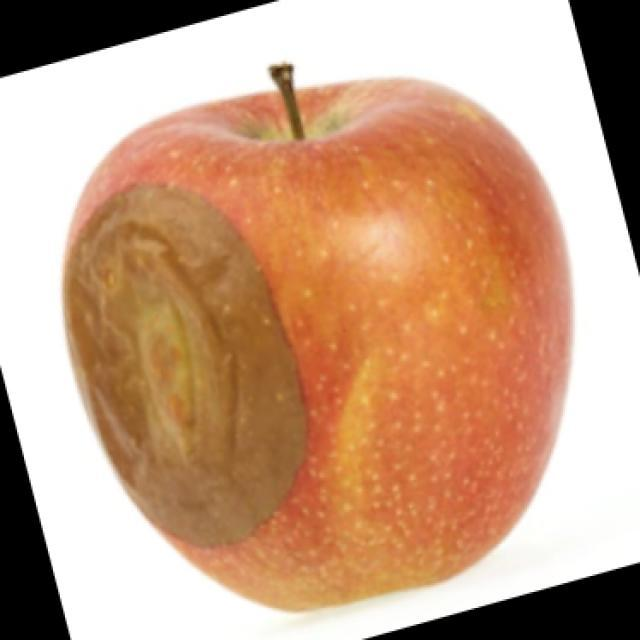Rotten: (78, 82, 582, 603)
